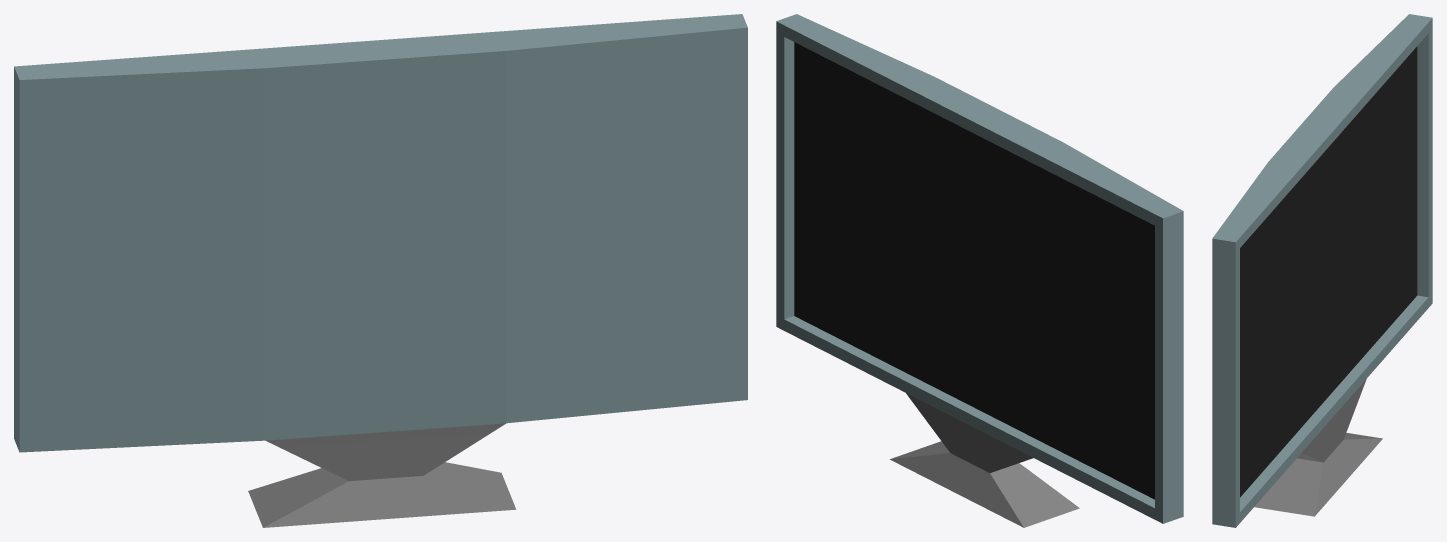
File: Monitor2.fbx
The picture shows the model from 3 angles, left to right: view 1: azimuth 30°, elevation 25°; view 2: azimuth 150°, elevation 25°; view 3: azimuth 270°, elevation 25°; orthographic projection. The views are drawn at different scales.
Visible parts, largest first — view 1: Monitor2; view 2: Monitor2; view 3: Monitor2.
Boxes of the visible parts, bbox=[...] form: Monitor2: bbox=[14, 14, 747, 527]; Monitor2: bbox=[776, 14, 1183, 527]; Monitor2: bbox=[1212, 14, 1432, 527].
Size of the model in its own units: 3.68 by 2.59 by 1.5.
